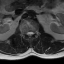CCS_normal: (28, 30, 31, 39)
LFS_normal: (33, 30, 35, 36)
LLS_normal: (31, 30, 33, 37)
RFS_stenosis: (24, 30, 26, 36)
RLS_normal: (26, 30, 29, 37)
